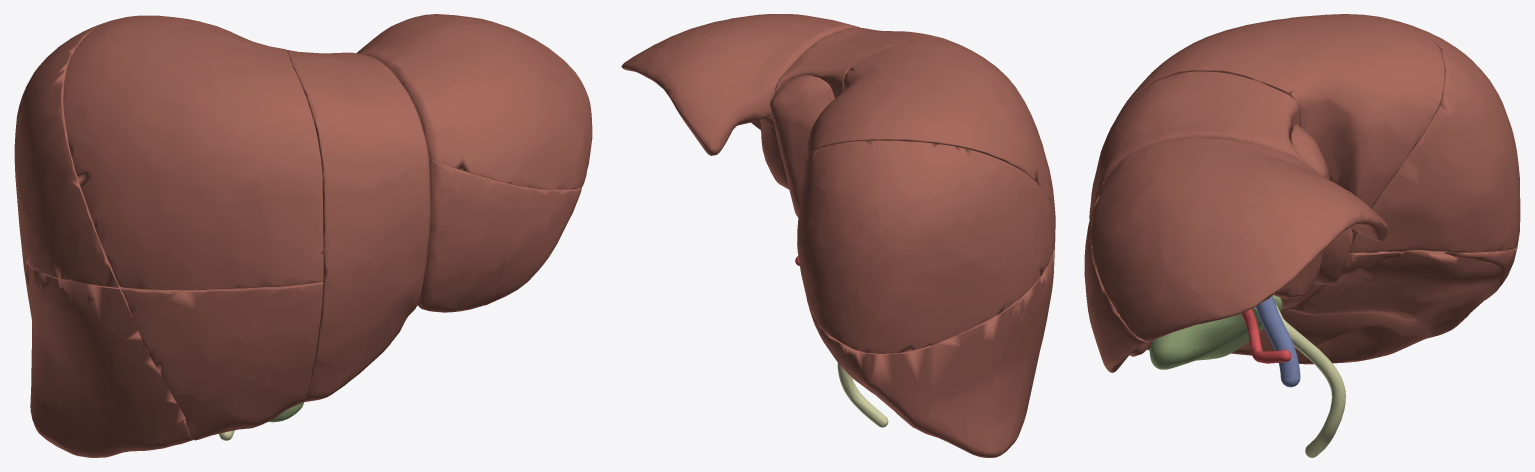
Rendered from hepatobiliary-anatomy.glb.
3 renders of one model, left to right at view 1: azimuth 30°, elevation 25°; view 2: azimuth 150°, elevation 25°; view 3: azimuth 270°, elevation 25°, orthographic. The views are drawn at different scales.
Parts seen in each view (by area): view 1: liver; view 2: liver, common_hepatic_duct; view 3: liver, gallbladder, common_hepatic_duct, portal_vein, hepatic_artery.
Part boxes in pixels (box(x1,y1,x2,y2)): liver: box(14, 14, 592, 457); liver: box(621, 14, 1055, 457); common_hepatic_duct: box(837, 362, 888, 427); liver: box(1084, 14, 1520, 372); gallbladder: box(1149, 295, 1282, 369); common_hepatic_duct: box(1254, 306, 1345, 457); portal_vein: box(1255, 296, 1300, 387); hepatic_artery: box(1241, 309, 1291, 363).
Size of the model in its own units: 0.2094 by 0.1636 by 0.159.
